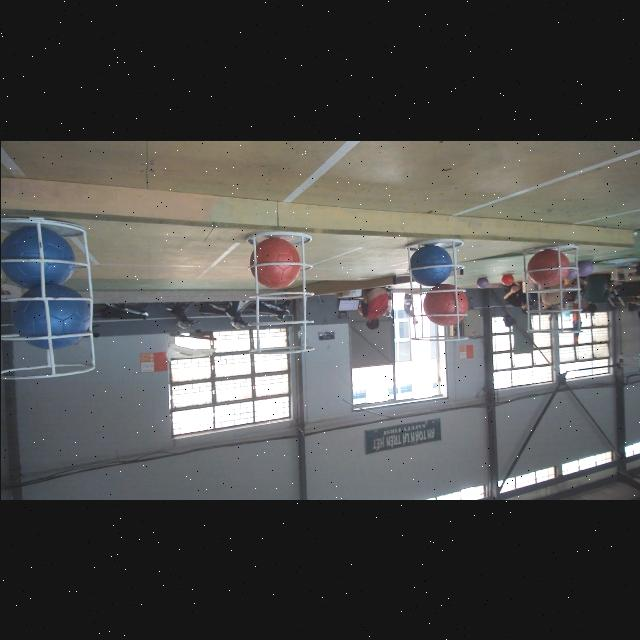B: (12, 285, 88, 349), (0, 226, 74, 288), (408, 244, 452, 286)
R: (250, 238, 298, 290), (422, 284, 466, 326), (526, 249, 568, 287)
